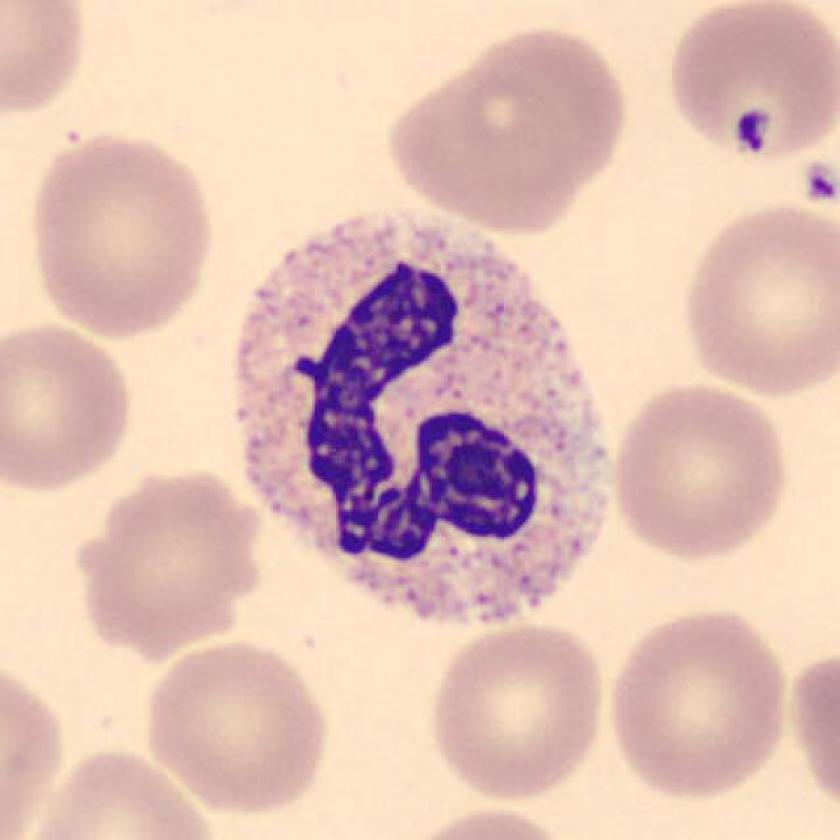neutrophil: (235, 217, 608, 625)
